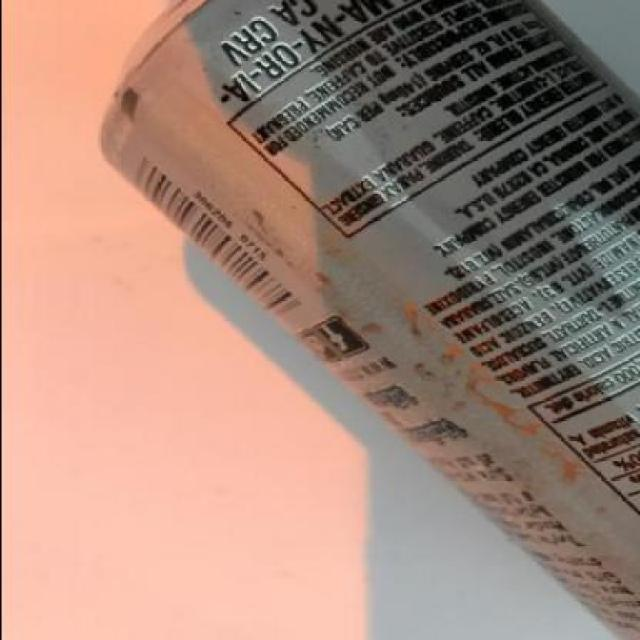METAL: (92, 1, 638, 638)
